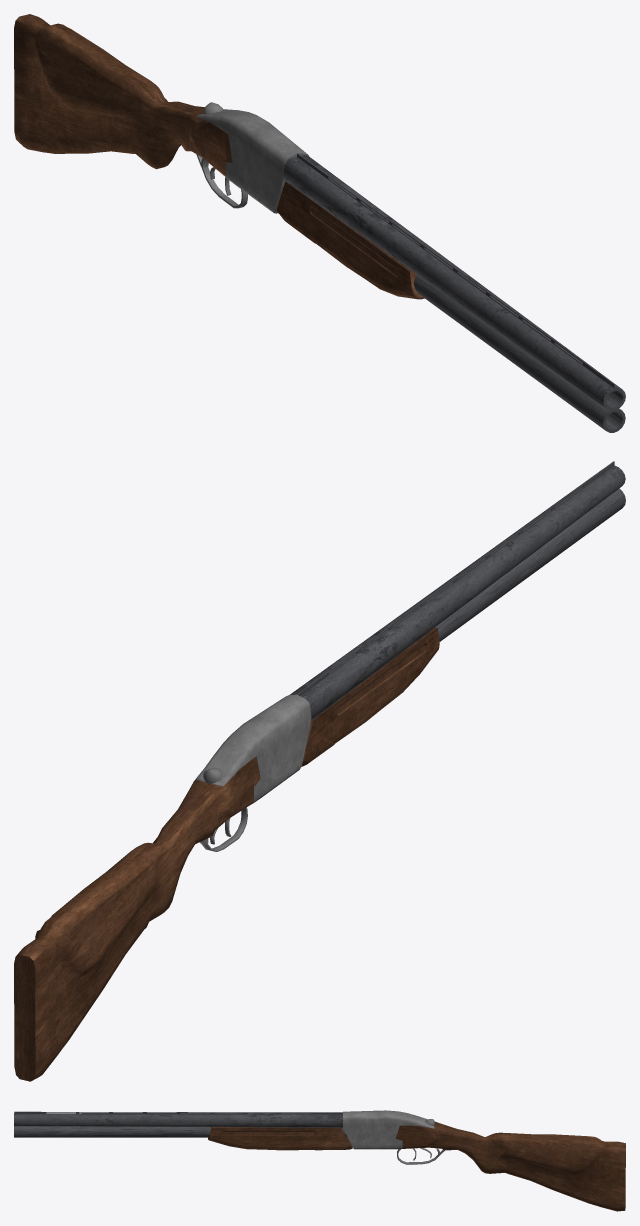
File: toz.glb
3 renders of one model, top to bottom at view 1: azimuth 30°, elevation 25°; view 2: azimuth 150°, elevation 25°; view 3: azimuth 270°, elevation 25°, orthographic. The views are drawn at different scales.
Parts seen in each view (by area): view 1: toz; view 2: toz; view 3: toz.
Boxes of the visible parts, left/top/right/bottom form: toz: left=14, top=14, right=625, bottom=432; toz: left=14, top=461, right=625, bottom=1081; toz: left=14, top=1110, right=625, bottom=1211.
Bounding box in the file's own units: 0.0425 × 0.2036 × 1.15.
Materials: 1 (1 with a texture image).
